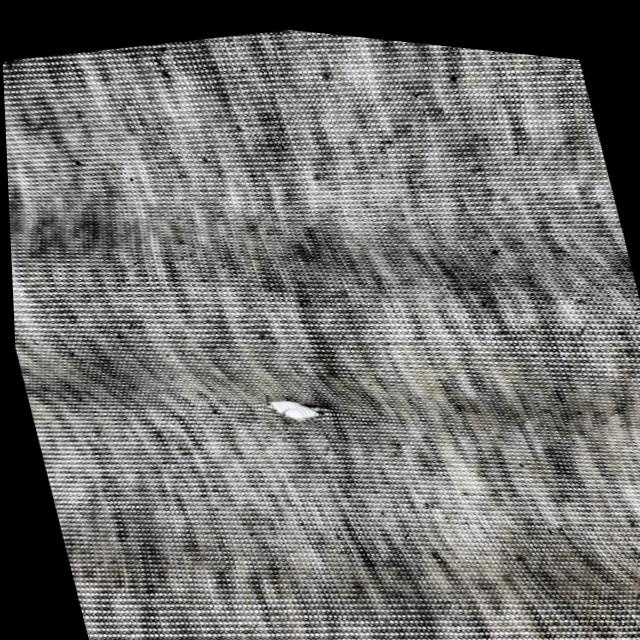Hole: (250, 380, 337, 438)
